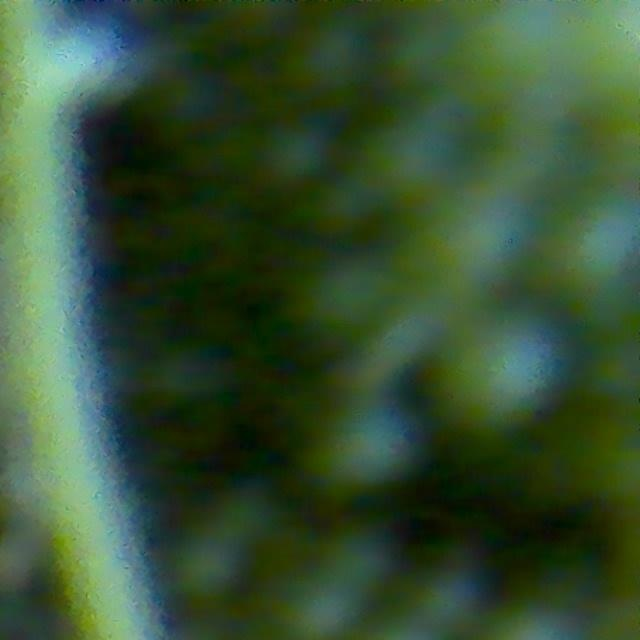SeaGrape: (432, 316, 549, 440), (415, 184, 531, 298), (316, 404, 417, 510), (551, 193, 639, 299), (307, 255, 390, 333), (276, 570, 362, 640), (318, 524, 397, 600), (172, 527, 245, 603), (411, 565, 484, 634), (263, 120, 331, 184)
